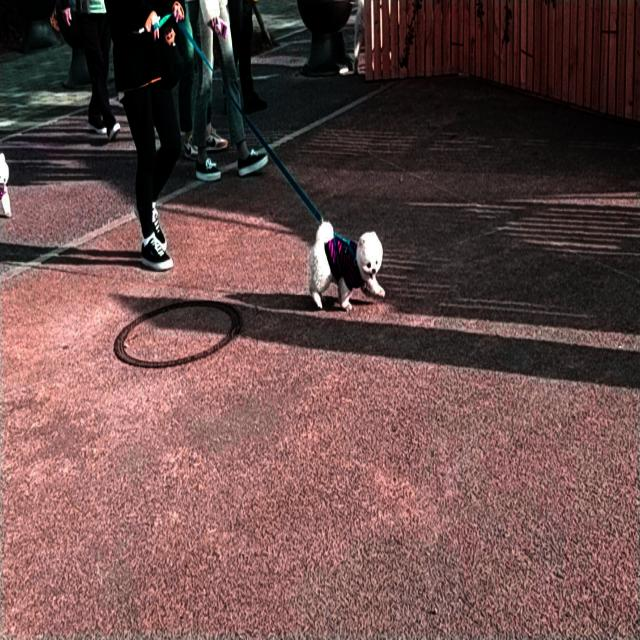Leashed_Dog: (142, 3, 385, 310)
